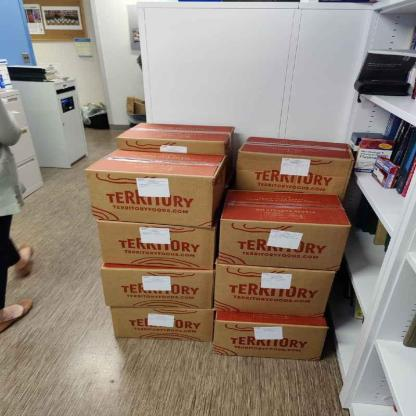label: (136, 178, 171, 198), (267, 230, 302, 250), (280, 158, 311, 177), (261, 272, 292, 289), (140, 227, 170, 244), (142, 276, 172, 291), (254, 327, 282, 342), (148, 313, 174, 327), (160, 145, 187, 154)
package: (86, 149, 225, 230), (218, 190, 352, 273), (236, 134, 354, 201), (116, 121, 235, 186), (215, 263, 334, 317), (213, 309, 327, 361), (98, 224, 215, 271), (101, 268, 212, 309)
